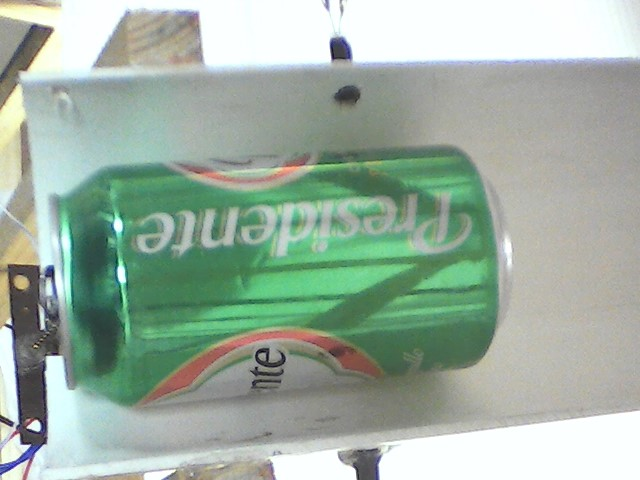lata: (38, 141, 517, 412)
